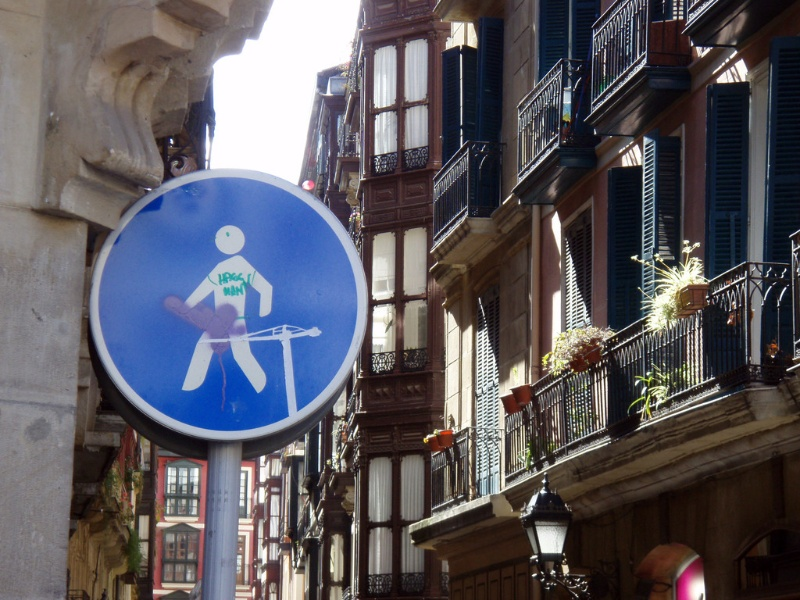pedestrian_crossing_ahead: (170, 226, 278, 400)
